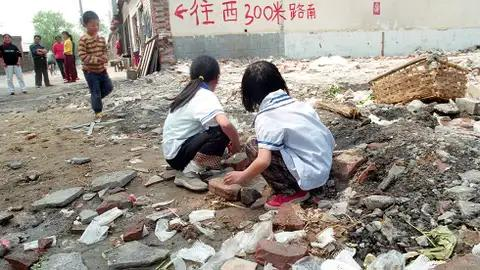garbage: (182, 184, 480, 270), (293, 54, 480, 185)
